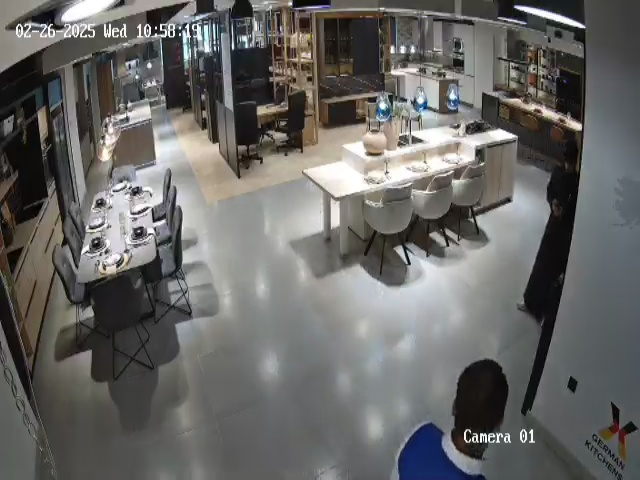employee: (392, 358, 510, 480)
male: (516, 146, 579, 325)
